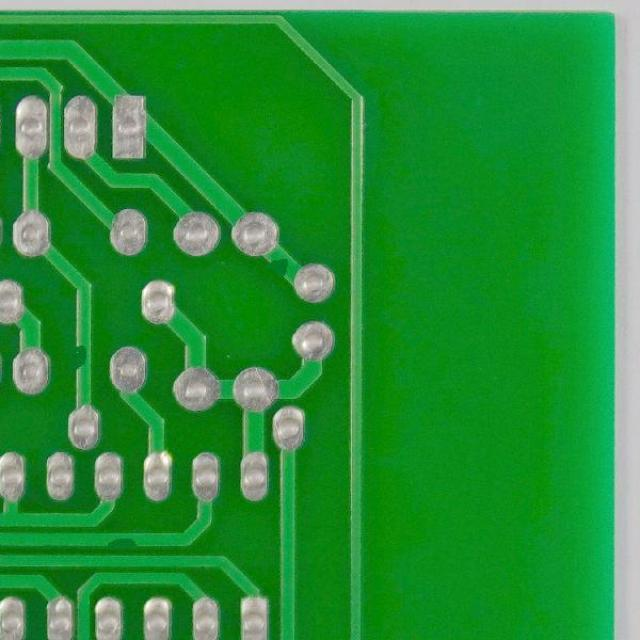MouseBite: (101, 528, 144, 553), (72, 337, 93, 376), (265, 250, 291, 280)
